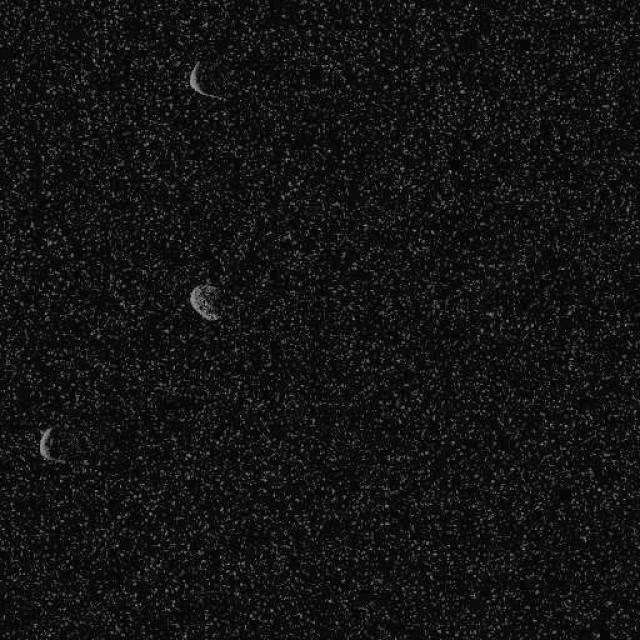D2: (188, 59, 228, 101), (188, 282, 222, 322), (38, 425, 66, 465)
